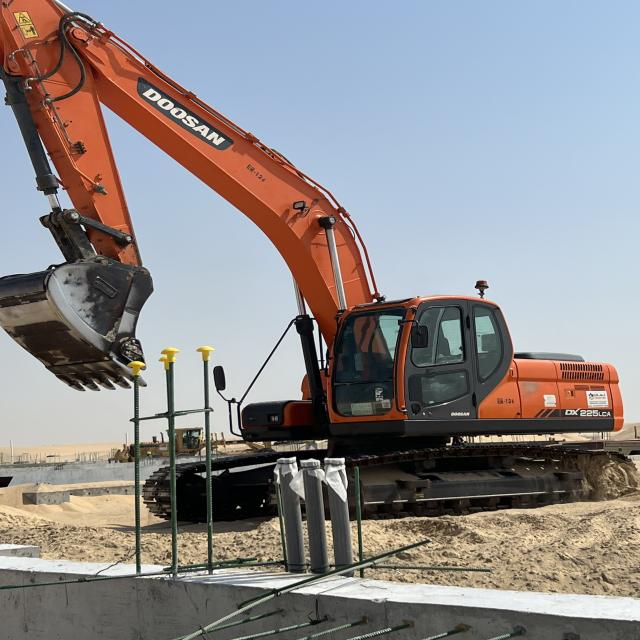Excavator: (1, 4, 637, 529)
